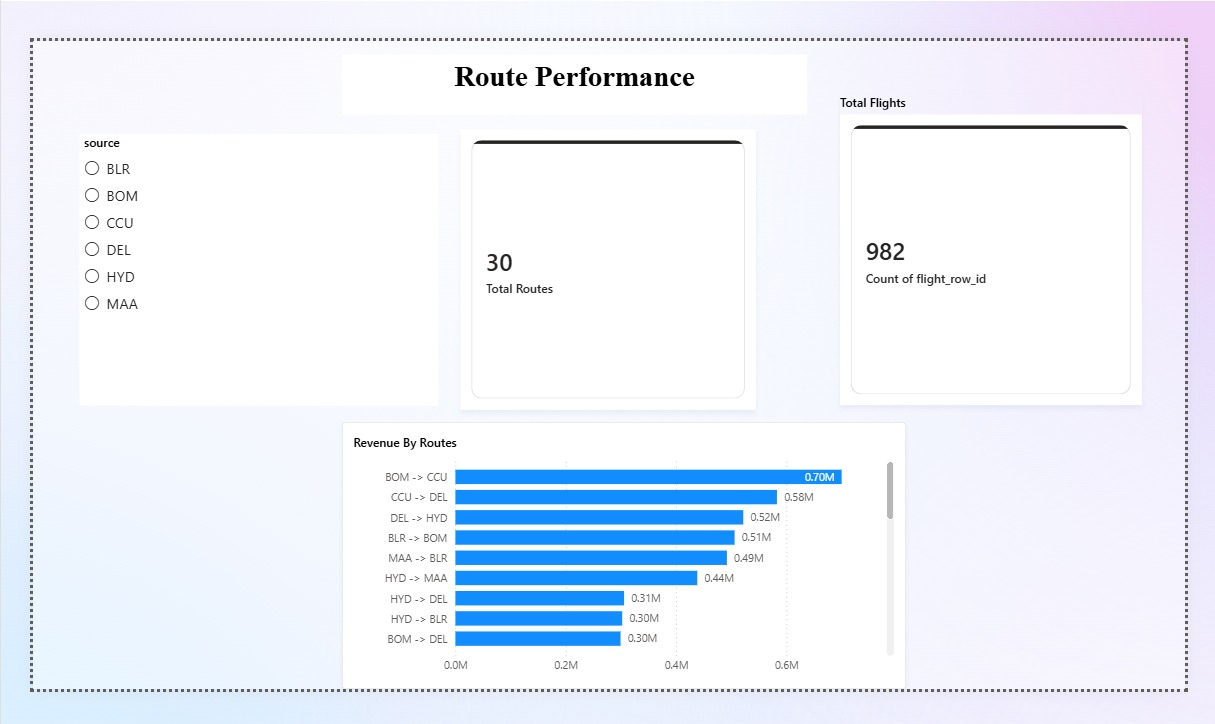

What the dashboard file says about the page in this screenshot:
{"tool":"powerbi","page":{"name":"Route Performance","canvas":[1280,720],"ordinal":1},"visuals":[{"type":"cardVisual","title":"Total Flights","fields":{"Data":["Count(gold_flat_table.flight_row_id)"]},"box":[896.7,58.3,335,346.7],"z":0},{"type":"cardVisual","fields":{"Data":["gold_flat_table.Total Routes"]},"box":[475,98.3,328.3,311.7],"z":1},{"type":"clusteredBarChart","title":"Revenue By Routes","fields":{"Category":["gold_flat_table.route"],"Y":["Sum(gold_flat_table.total_amount)"]},"box":[343.3,423.3,626.7,296.7],"z":2},{"type":"listSlicer","fields":{"Values":["gold_flat_table.source"]},"box":[51.7,103.3,398.3,301.7],"z":3},{"type":"textbox","box":[343.3,15,516.7,66.7],"z":4}]}

Visuals, with their boxes on the page's 1280x720 design canvas (x1, y1, x2, y2). These are canvas units, not pixel positions in the 1215x724 screenshot, which may show the page scaled, cropped or inside an application window:
"Total Flights" cardVisual: 897/58/1232/405
cardVisual - gold_flat_table.Total Routes: 475/98/803/410
"Revenue By Routes" clusteredBarChart: 343/423/970/720
listSlicer - gold_flat_table.source: 52/103/450/405
textbox: 343/15/860/82
